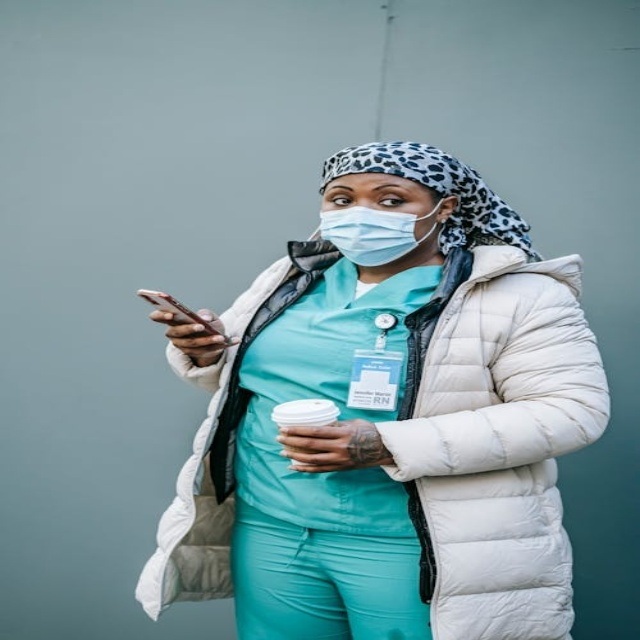Mascara: (317, 197, 441, 266)
Sin_gafas: (378, 197, 406, 207), (329, 195, 353, 206)
Sin_guantes: (278, 419, 389, 473), (154, 305, 233, 362)
